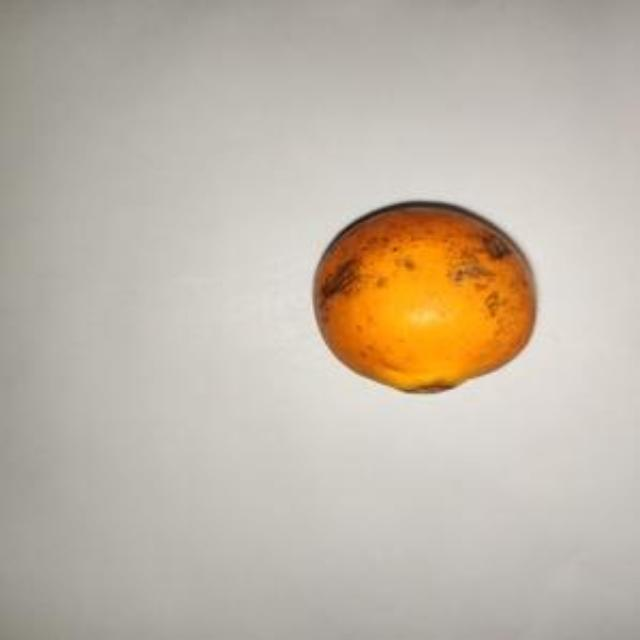good: (313, 201, 539, 398)
